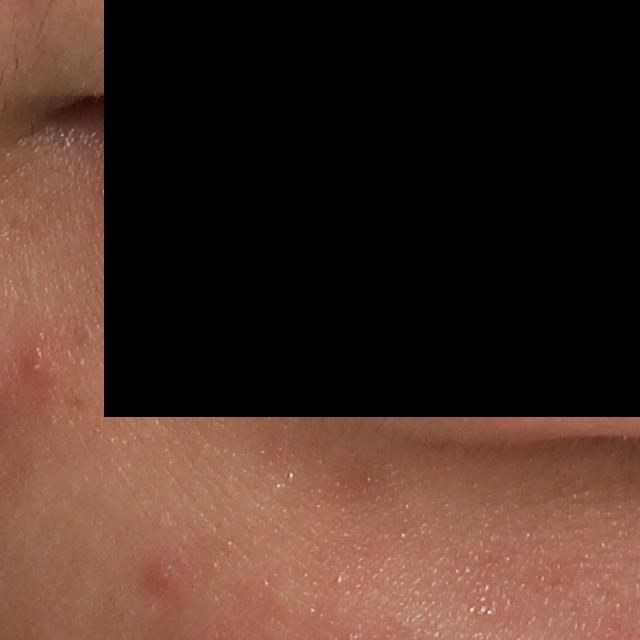papule: (144, 563, 178, 602), (19, 337, 52, 377)
